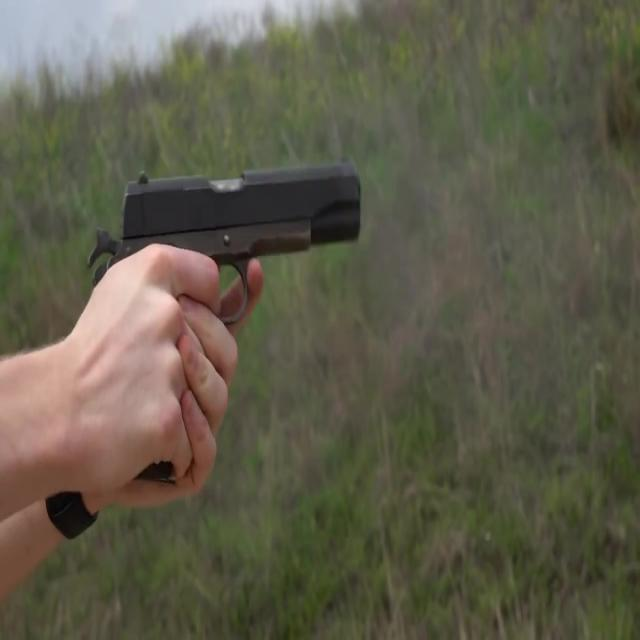Weapon: (38, 76, 392, 530)
